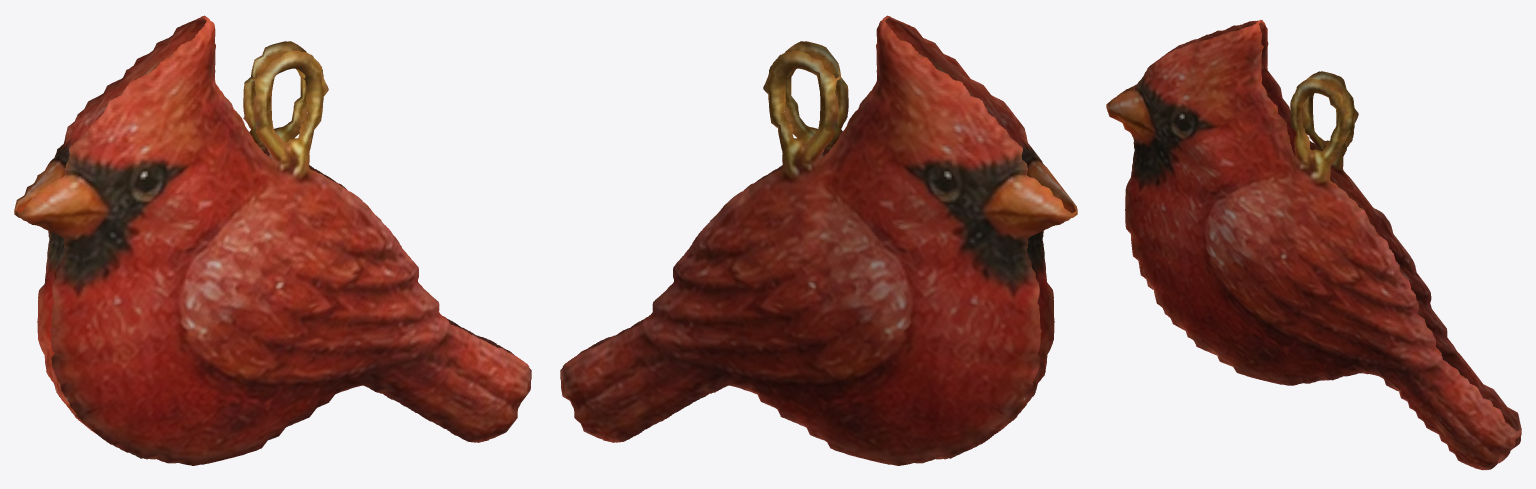
The model's file is Item_cardinal.glb.
3 renders of one model, left to right at view 1: azimuth 30°, elevation 25°; view 2: azimuth 150°, elevation 25°; view 3: azimuth 330°, elevation 25°, orthographic. The views are drawn at different scales.
Parts seen in each view (by area): view 1: Item_cardinal carving; view 2: Item_cardinal carving; view 3: Item_cardinal carving.
Boxes of the visible parts, bbox=[...] form: Item_cardinal carving: bbox=[14, 15, 531, 465]; Item_cardinal carving: bbox=[560, 15, 1077, 465]; Item_cardinal carving: bbox=[1106, 20, 1521, 470].
Bounding box in the file's own units: 0.3761 × 0.343 × 0.062.
1 material, 1 textured.
